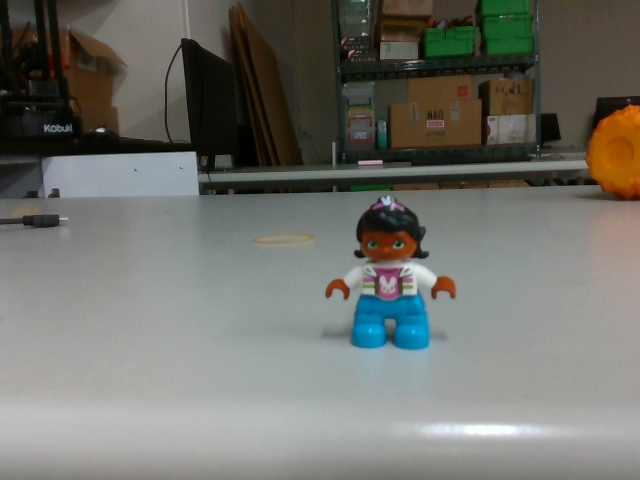people: (324, 195, 461, 357)
